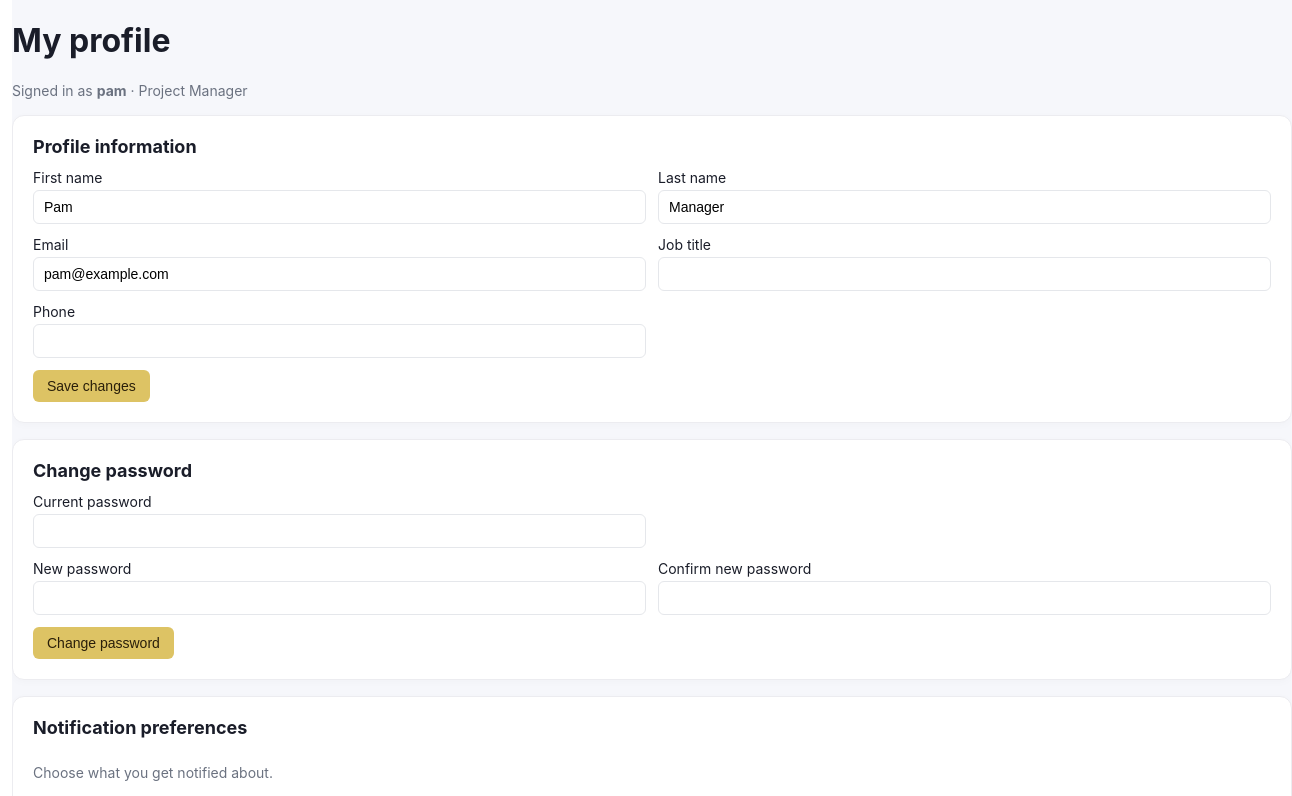
Scenario: Profile page › informs the user to verify a changed email address
Expected: the field showing "Pam" is shown, [33,190,646,224]
Replace the text in the field labelled "Email" with "new@example.com": (340, 274) [33,257,646,291]
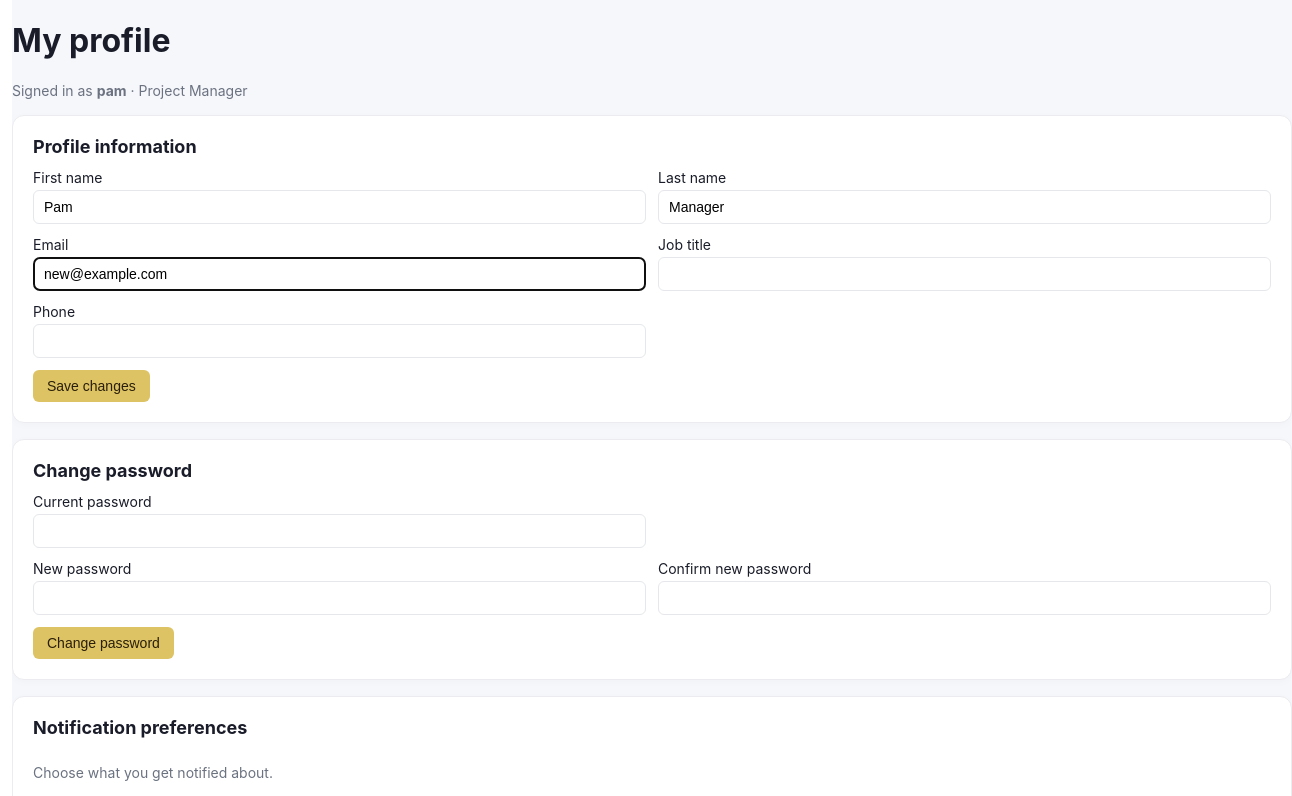
Click the button "Save changes": (91, 386) [33,370,150,402]
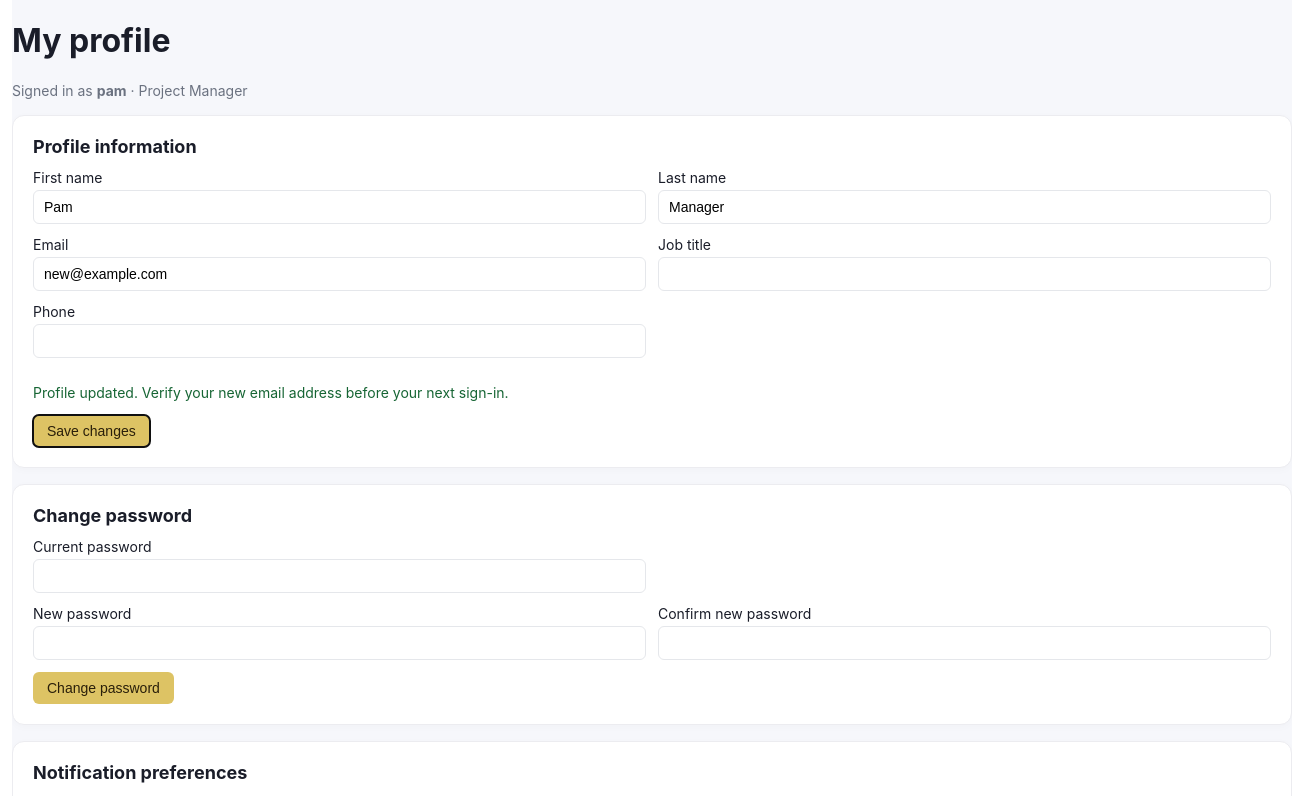
Expected: the text "Verify your new email address" is shown, [33,384,509,401]
